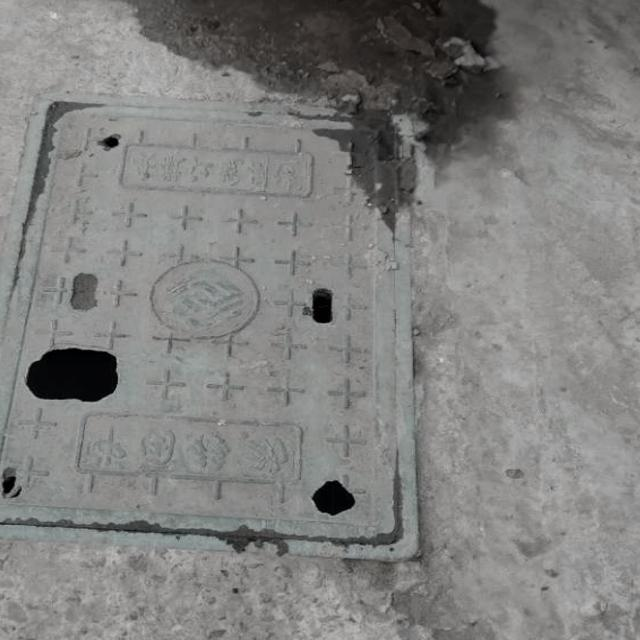broke: (0, 93, 425, 559)
